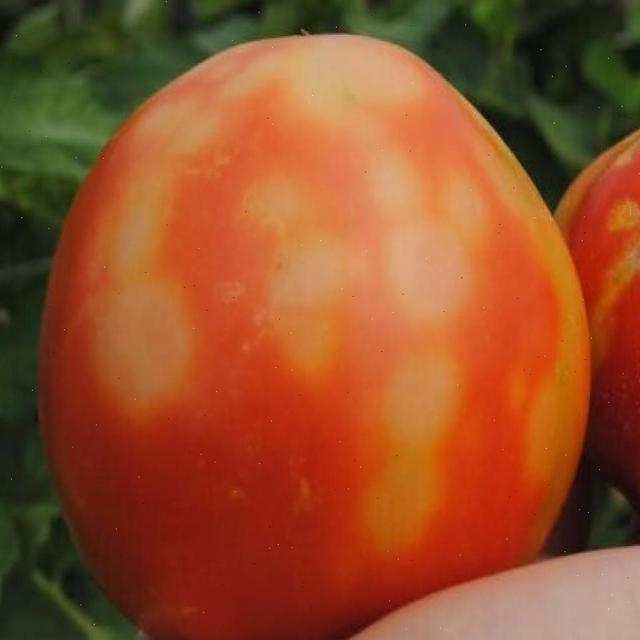Spotted wilt Virus Fruit: (222, 86, 427, 427)
